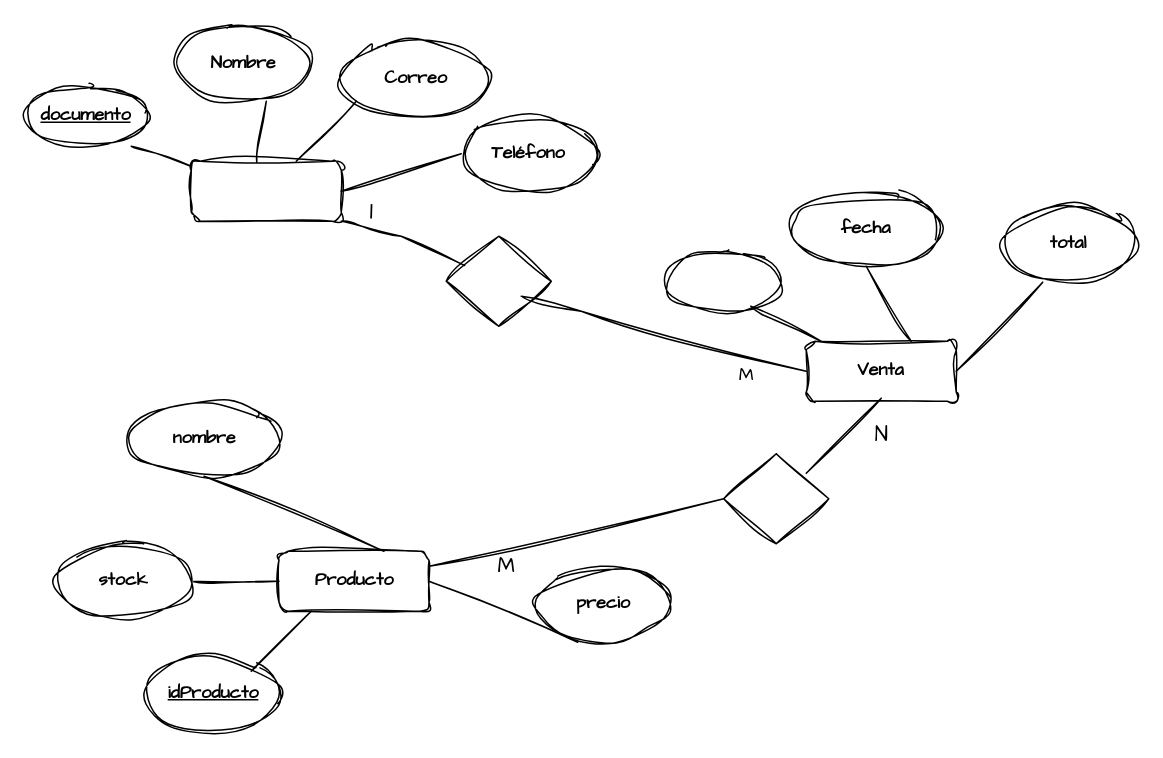
Some shapes in this 1163 by 758 pixel diagram are drawn without their labels. Here are the shapes that lost their labels. From the top down, the centre of each, then its label:
At pixel 265 190: "Cliente".
At pixel 498 280: "Realiza".
At pixel 723 280: "idVenta".
At pixel 775 498: "Incluye".
